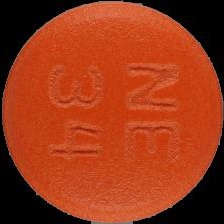0378-2099: (0, 0, 224, 224)
